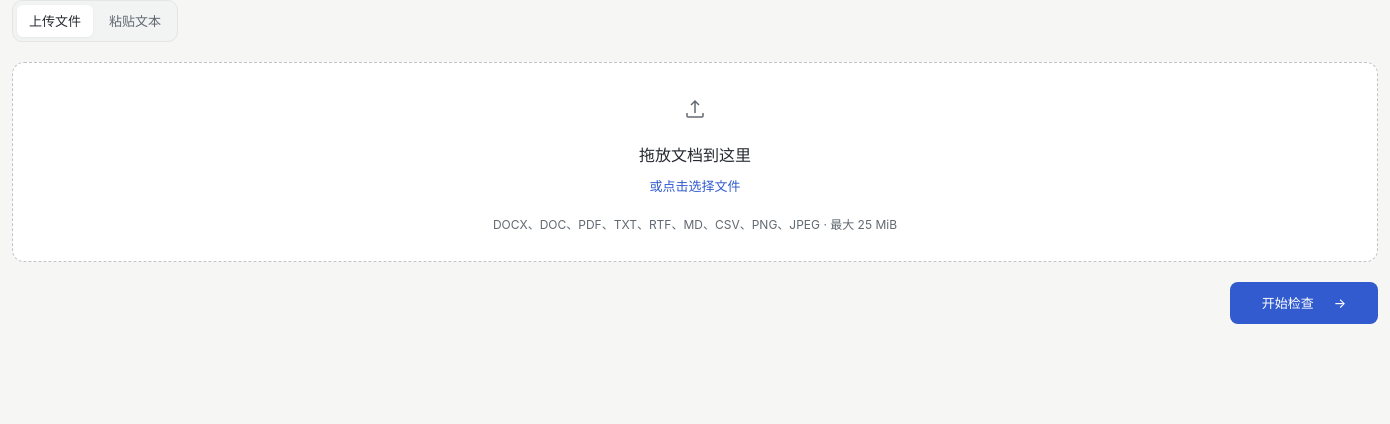
it: SourceInputPanel › removes the UTF-16 maxlength and reports Unicode code points
This screenshot has width=1390, height=424.
Click the button "粘贴文本".
click(135, 21)  # box [97, 5, 173, 37]
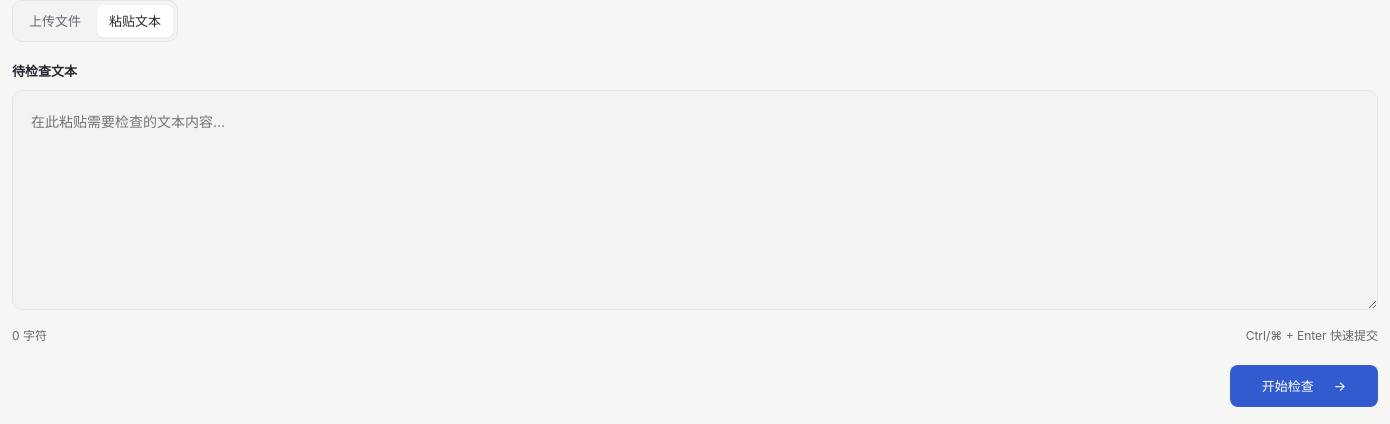
Type "😀a" into the text box labelled "待检查文本".
click(695, 200); type("😀a")  # box [12, 90, 1378, 310]
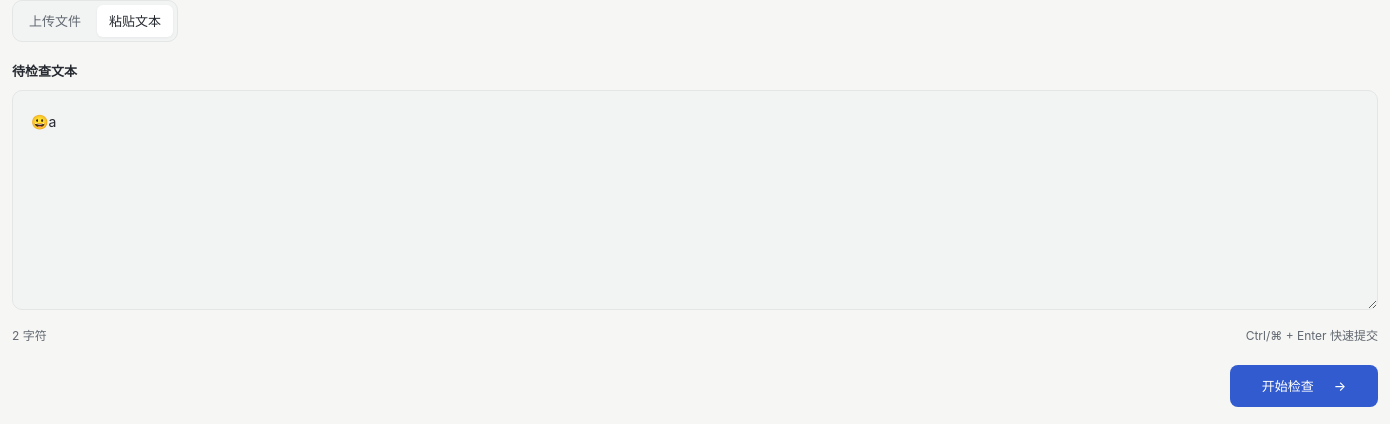
Check: the element showing "2 字符 Ctrl/⌘ + Enter 快速提交" is shown, box [12, 326, 1378, 344]
